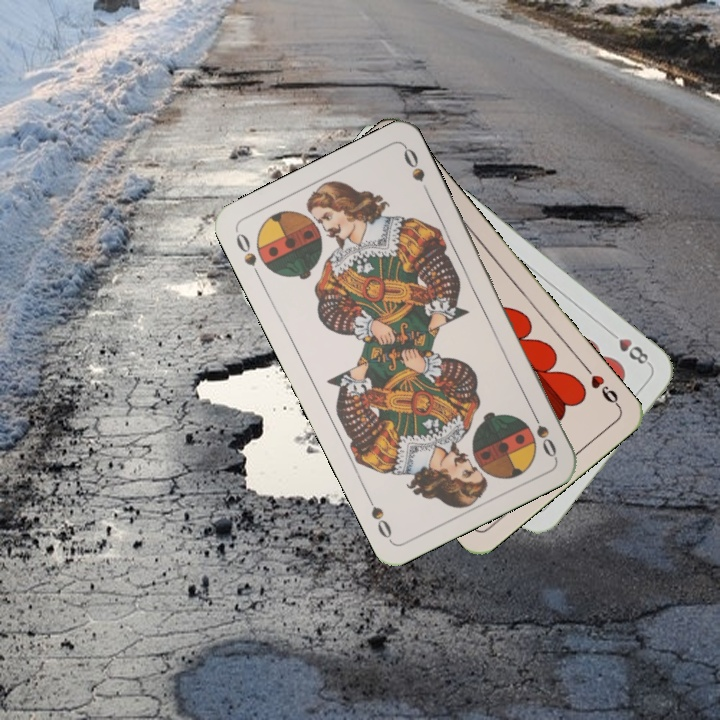H8: (604, 326, 653, 369)
H9: (580, 361, 623, 410)
SO: (526, 404, 560, 460), (232, 227, 264, 283)
